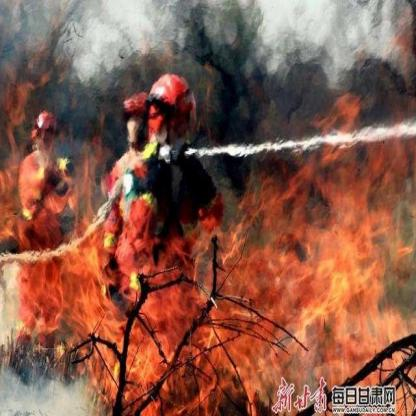fire: (6, 25, 402, 404)
